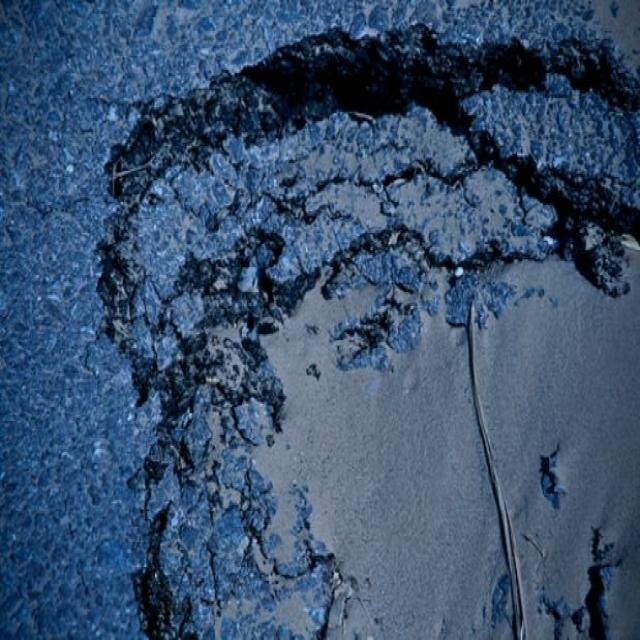pothole: (85, 12, 638, 634)
